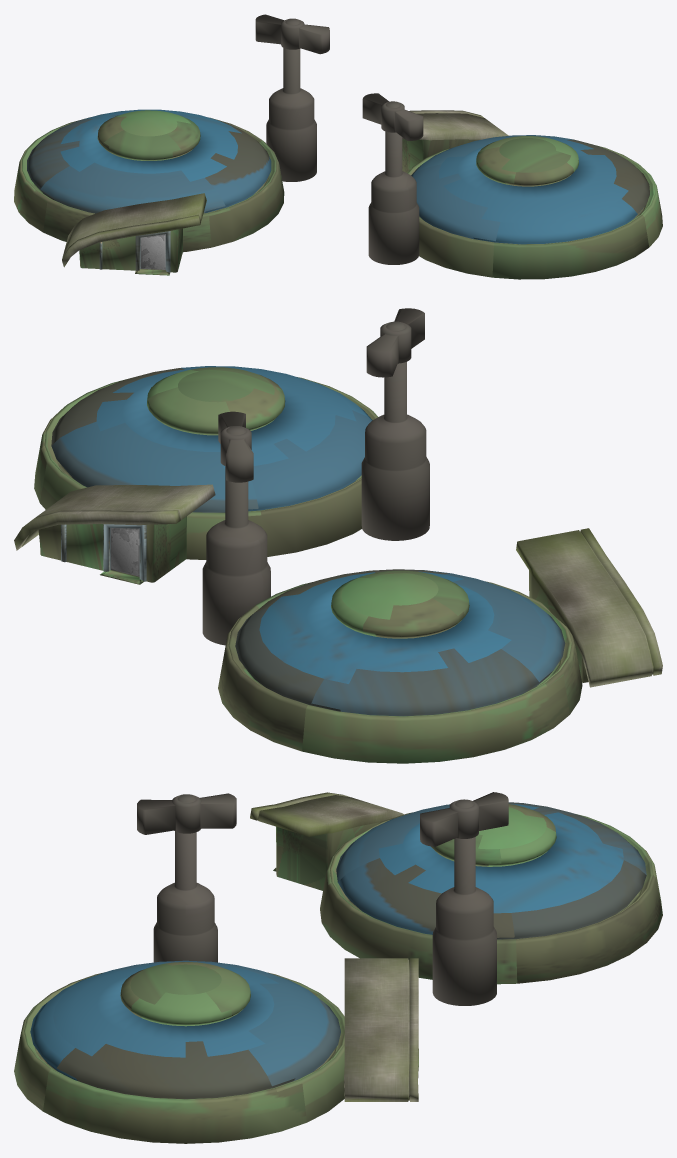
Rendered from farm_02.glb.
3 views of the same model, one above another, from view 1: azimuth 30°, elevation 25°; view 2: azimuth 150°, elevation 25°; view 3: azimuth 270°, elevation 25° (orthographic). The views are drawn at different scales.
Parts seen in each view (by area): view 1: Farm_02; view 2: Farm_02; view 3: Farm_02.
Boxes of the visible parts, bbox=[...] form: Farm_02: bbox=[14, 14, 662, 279]; Farm_02: bbox=[14, 308, 662, 763]; Farm_02: bbox=[14, 792, 662, 1143].
Bounding box in the file's own units: 19.93 × 5.62 × 17.13.
Materials: 6 (6 with a texture image).
